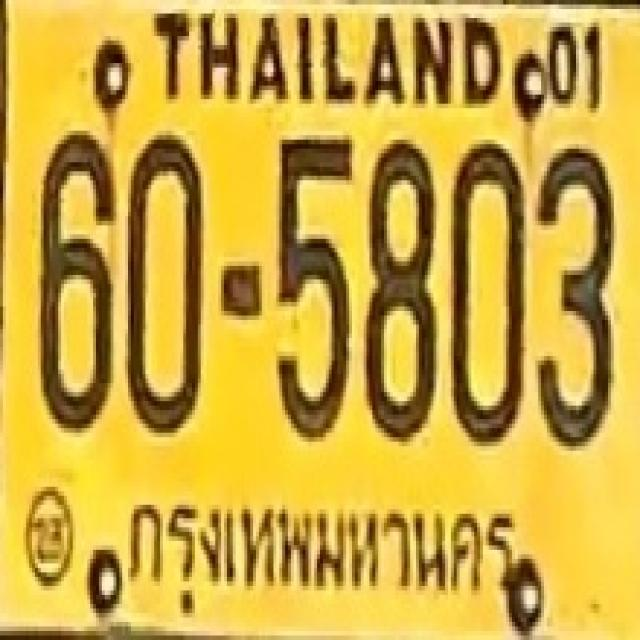0: (125, 130, 201, 432), (448, 142, 524, 444)
3: (535, 146, 614, 448)
5: (275, 135, 353, 437)
6: (38, 130, 113, 432)
8: (364, 138, 436, 440)
BKK: (118, 483, 524, 616)
